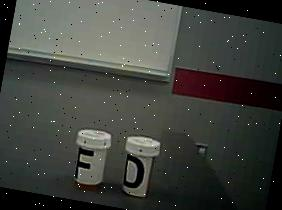Bottle D: (114, 126, 167, 206)
Bottle F: (65, 119, 117, 193)
